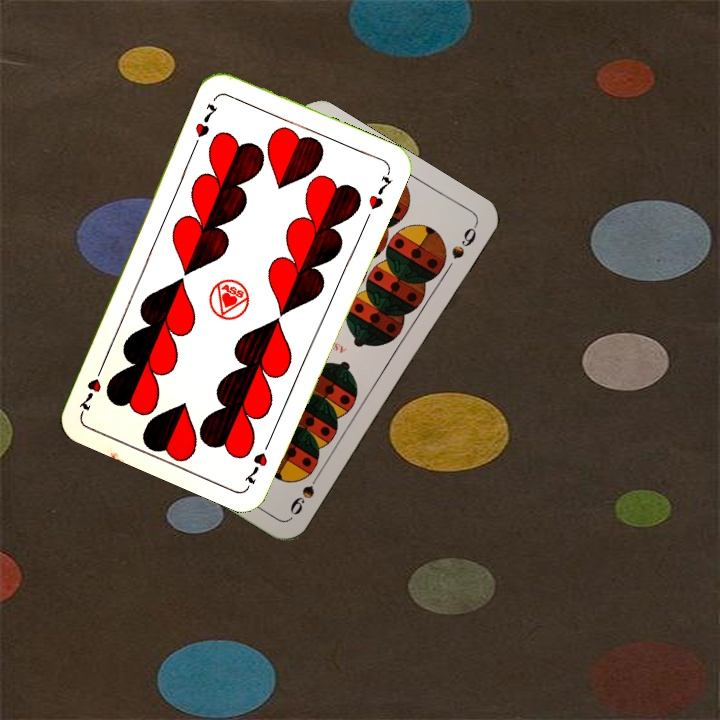H7: (239, 433, 275, 489), (191, 99, 221, 140)
S9: (285, 466, 324, 518)
